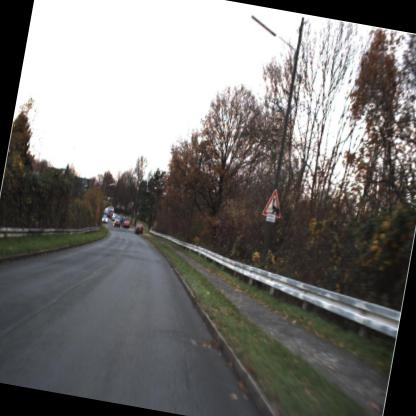danger: (256, 180, 288, 224)
